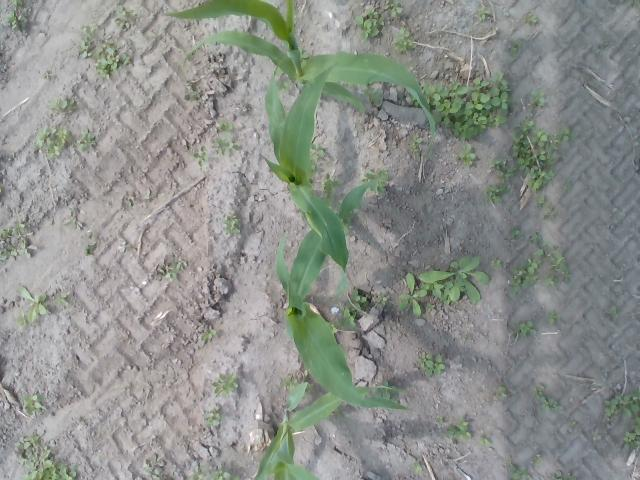Maize: (157, 0, 446, 166), (274, 178, 412, 413), (265, 57, 350, 296), (254, 385, 414, 480)
Weeds: (407, 72, 515, 140), (418, 255, 490, 306), (510, 118, 559, 192), (13, 434, 78, 480), (536, 241, 572, 287), (13, 285, 50, 328), (396, 272, 428, 318), (509, 256, 541, 296), (34, 126, 72, 158), (341, 290, 368, 329), (603, 391, 640, 418), (93, 42, 120, 78), (356, 8, 384, 40), (374, 380, 402, 410), (489, 156, 519, 184), (77, 23, 99, 59), (360, 168, 390, 194), (444, 417, 472, 444), (418, 354, 446, 378), (322, 172, 340, 209), (142, 453, 166, 480), (212, 372, 238, 396), (484, 183, 512, 203), (454, 144, 478, 167), (215, 133, 238, 156), (394, 27, 416, 51), (157, 260, 183, 280), (623, 418, 640, 448), (22, 392, 44, 415), (336, 209, 354, 237), (113, 3, 133, 28), (510, 320, 537, 338), (46, 96, 75, 112), (76, 128, 95, 152), (202, 405, 222, 427), (81, 231, 98, 256), (220, 213, 240, 234), (362, 88, 384, 107), (5, 11, 28, 28), (540, 395, 563, 412), (382, 0, 403, 18), (528, 88, 546, 108), (210, 468, 240, 480), (508, 464, 530, 480), (554, 126, 574, 142), (547, 470, 578, 480), (308, 142, 325, 160), (188, 465, 208, 480), (194, 145, 208, 166), (0, 244, 17, 260), (282, 372, 298, 389), (507, 40, 525, 55), (474, 6, 490, 22), (12, 220, 28, 236), (298, 45, 310, 66), (410, 134, 422, 154), (53, 293, 71, 306), (274, 78, 290, 92), (525, 12, 539, 26), (542, 206, 556, 220), (493, 385, 508, 398), (200, 329, 217, 340), (119, 53, 132, 67), (546, 311, 560, 324), (326, 320, 339, 334), (308, 160, 319, 176), (491, 257, 504, 270), (532, 384, 544, 398), (412, 461, 424, 475), (376, 292, 388, 306), (536, 194, 546, 210), (344, 82, 370, 88), (508, 226, 522, 237), (183, 91, 200, 100), (302, 386, 314, 398), (217, 122, 233, 131), (530, 232, 542, 244), (334, 406, 346, 418), (17, 242, 28, 255), (0, 227, 10, 239), (562, 180, 572, 192), (479, 437, 492, 446), (64, 220, 78, 228), (624, 0, 640, 7), (426, 302, 436, 313), (608, 305, 618, 315), (436, 417, 446, 427), (533, 456, 545, 464), (11, 0, 24, 7), (592, 434, 603, 441), (398, 92, 405, 100), (568, 420, 576, 426), (507, 455, 512, 463), (463, 334, 468, 340)
